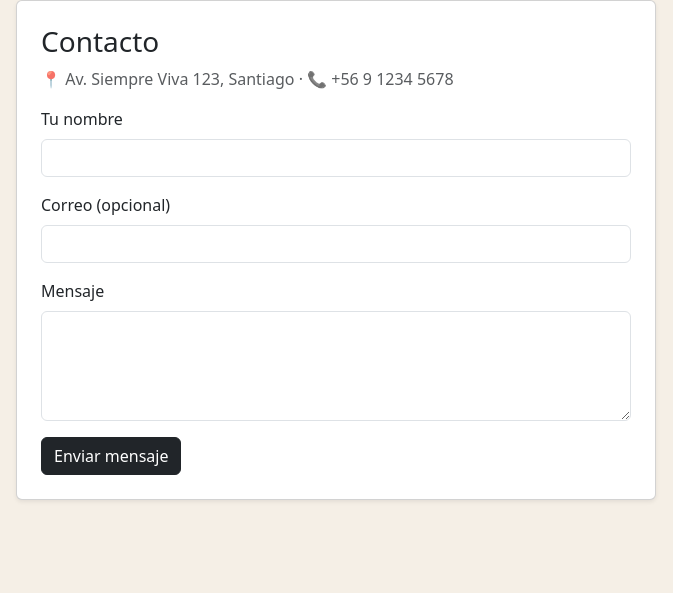
muestra un error si faltan datos y no guarda nada
The width and height of the screenshot is (673, 593).
Click the button "Enviar mensaje": (111, 456) [41,437,182,475]
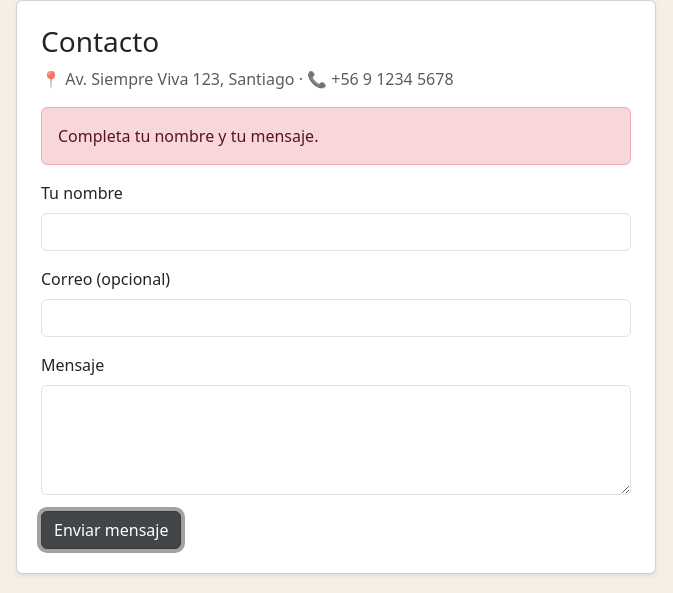
Now the message reads "Completa tu nombre y tu mensaje.", box [58,125,318,147]
